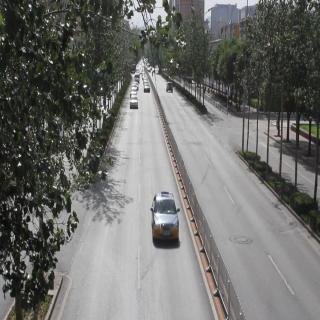Car: (150, 192, 182, 247), (131, 92, 140, 112), (141, 82, 153, 95), (130, 86, 138, 105), (165, 81, 175, 94)
